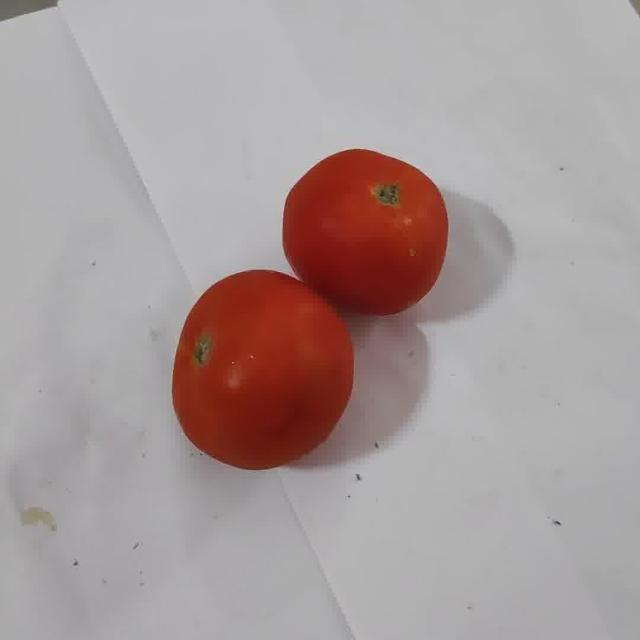Tomato: (173, 271, 353, 469), (283, 149, 448, 315)
